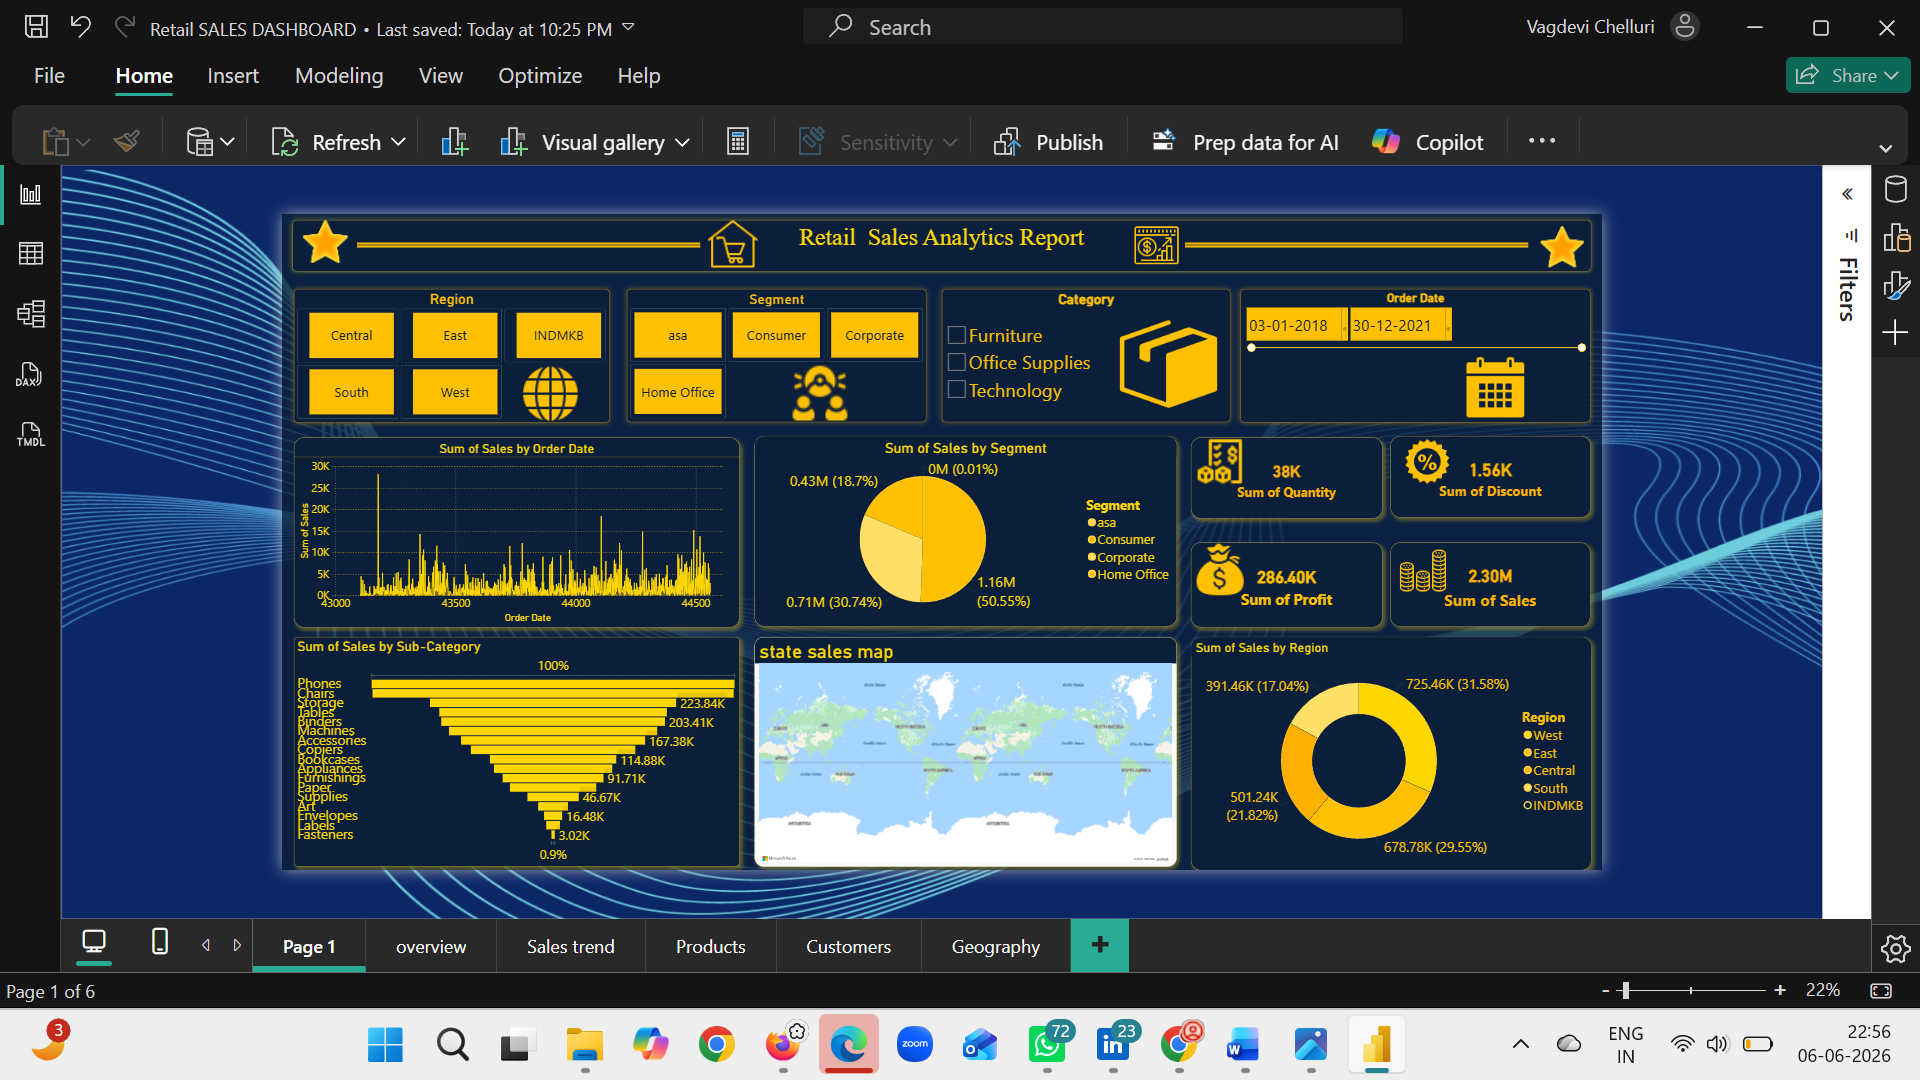

The page's visual inventory and layout, read from the dashboard file:
{"tool":"powerbi","page":{"name":"Page 1","canvas":[4000,1985],"ordinal":0},"visuals":[{"type":"donutChart","fields":{"Category":["Orders (2).Region"],"Y":["Sum(Orders (2).Sales)"]},"box":[2753.3,1280,1213.3,706.7],"z":0},{"type":"funnel","fields":{"Category":["Orders (2).Sub-Category"],"Y":["Sum(Orders (2).Sales)"]},"box":[35,1280,1350,695],"z":1000},{"type":"azureMap","title":"state sales map","fields":{"Values":["Orders (2).State"]},"box":[1433.3,1283.3,1280,696.7],"z":2000},{"type":"pieChart","fields":{"Category":["Orders (2).Segment"],"Y":["Sum(Orders (2).Sales)"]},"box":[1433.3,673.3,1280,576.7],"z":3000},{"type":"lineChart","fields":{"Category":["Orders (2).Order Date"],"Y":["Sum(Orders (2).Sales)"]},"box":[35,675,1350,575],"z":4000},{"type":"card","fields":{"Values":["Sum(Orders (2).Sales)"]},"box":[3361.1,994.4,605.6,255.6],"z":5000},{"type":"card","fields":{"Values":["Sum(Orders (2).Profit)"]},"box":[2753.3,993.3,580,256.7],"z":6000},{"type":"card","fields":{"Values":["Sum(Orders (2).Discount)"]},"box":[3360,673.3,606.7,246.7],"z":7000},{"type":"card","fields":{"Values":["Sum(Orders (2).Quantity)"]},"box":[2755,675,580,245],"z":8000},{"type":"textbox","title":"Retail sales analytics report","box":[30,20,3935,155],"z":9000},{"type":"slicer","title":"Category","fields":{"Values":["Orders.Category"]},"box":[2000,226.7,873.3,403.3],"z":10000},{"type":"advancedSlicerVisual","fields":{"Values":["Orders.Region"]},"box":[35,225,955,405],"z":11000},{"type":"advancedSlicerVisual","fields":{"Values":["Orders.Segment"]},"box":[1046.7,226.7,906.7,403.3],"z":12000},{"type":"slicer","title":"Order Date","fields":{"Values":["Orders.Order Date"]},"box":[2905,225,1060,404],"z":13000},{"type":"image","box":[1106.7,20,523.3,156.7],"z":13001},{"type":"image","box":[2463.3,20,373.3,153.3],"z":13002},{"type":"image","box":[3583.3,426.7,190,203.3],"z":13003},{"type":"image","box":[2536.7,303.3,300,300],"z":13004},{"type":"image","box":[1500,453.3,260,176.7],"z":13005},{"type":"image","box":[670,453.3,290,180],"z":13006},{"type":"image","box":[3360,993.3,196.7,170],"z":13007},{"type":"image","box":[2756.7,993.3,176.7,170],"z":13008},{"type":"image","box":[2750,673.3,183.3,153.3],"z":13009},{"type":"image","box":[3360,676.7,223.3,150],"z":13010},{"type":"shape","box":[225,85,1040,15],"z":13011},{"type":"shape","box":[2735,85,1040,15],"z":13012},{"type":"image","box":[35,10,190,155],"z":13013},{"type":"image","box":[3760,25,240,150],"z":13014}]}

Visuals, with their boxes on the page's 4000x1985 design canvas (x1, y1, x2, y2). These are canvas units, not pixel positions in the 1920x1080 screenshot, which may show the page scaled, cropped or inside an application window:
donutChart - Orders (2).Region x Sum(Orders (2).Sales): select_region(2753, 1280, 3967, 1987)
funnel - Orders (2).Sub-Category x Sum(Orders (2).Sales): select_region(35, 1280, 1385, 1975)
"state sales map" azureMap: select_region(1433, 1283, 2713, 1980)
pieChart - Orders (2).Segment x Sum(Orders (2).Sales): select_region(1433, 673, 2713, 1250)
lineChart - Orders (2).Order Date x Sum(Orders (2).Sales): select_region(35, 675, 1385, 1250)
card - Sum(Orders (2).Sales): select_region(3361, 994, 3967, 1250)
card - Sum(Orders (2).Profit): select_region(2753, 993, 3333, 1250)
card - Sum(Orders (2).Discount): select_region(3360, 673, 3967, 920)
card - Sum(Orders (2).Quantity): select_region(2755, 675, 3335, 920)
"Retail sales analytics report" textbox: select_region(30, 20, 3965, 175)
"Category" slicer: select_region(2000, 227, 2873, 630)
advancedSlicerVisual - Orders.Region: select_region(35, 225, 990, 630)
advancedSlicerVisual - Orders.Segment: select_region(1047, 227, 1953, 630)
"Order Date" slicer: select_region(2905, 225, 3965, 629)
image: select_region(1107, 20, 1630, 177)
image: select_region(2463, 20, 2837, 173)
image: select_region(3583, 427, 3773, 630)
image: select_region(2537, 303, 2837, 603)
image: select_region(1500, 453, 1760, 630)
image: select_region(670, 453, 960, 633)
image: select_region(3360, 993, 3557, 1163)
image: select_region(2757, 993, 2933, 1163)
image: select_region(2750, 673, 2933, 827)
image: select_region(3360, 677, 3583, 827)
shape: select_region(225, 85, 1265, 100)
shape: select_region(2735, 85, 3775, 100)
image: select_region(35, 10, 225, 165)
image: select_region(3760, 25, 4000, 175)
